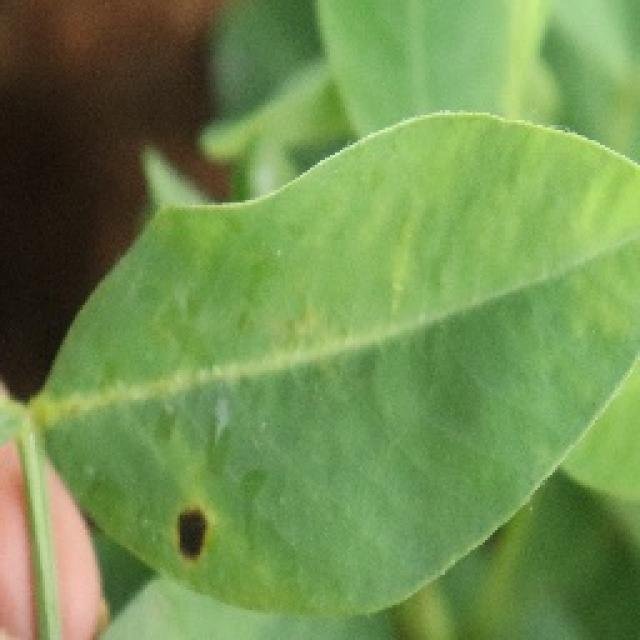Early_leaf_spot: (146, 497, 218, 592)
